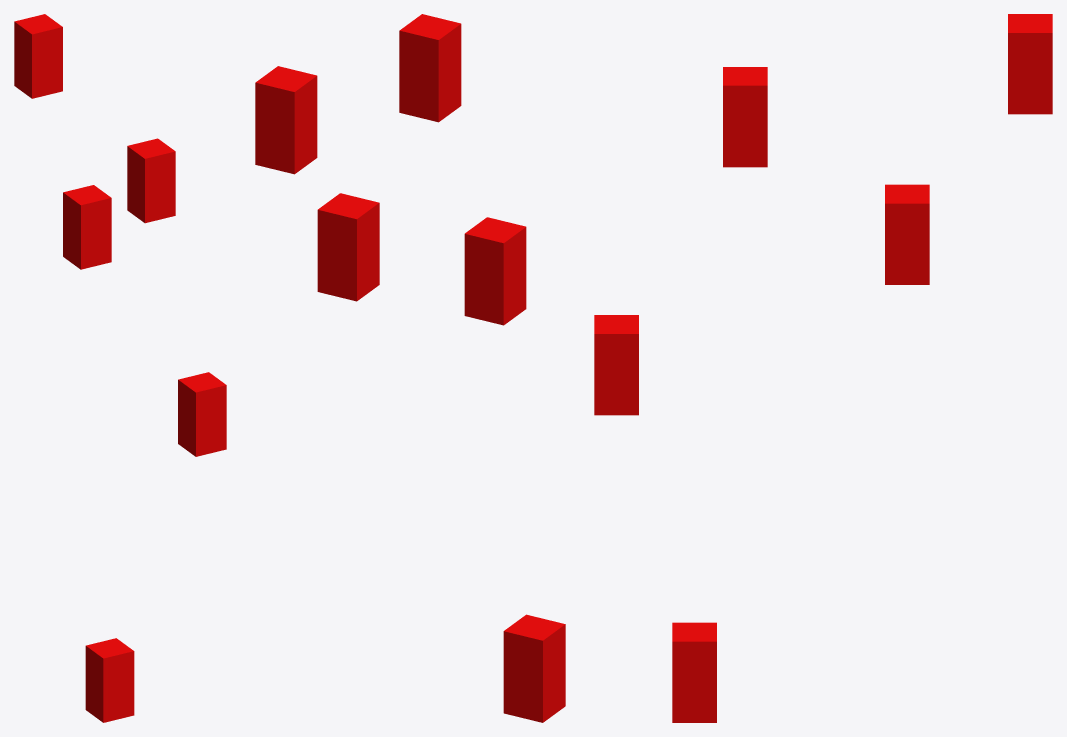
Rendered from M13_Enemies.fbx.
3 renders of one model, left to right at view 1: azimuth 30°, elevation 25°; view 2: azimuth 150°, elevation 25°; view 3: azimuth 270°, elevation 25°, orthographic. The views are drawn at different scales.
Visible parts, largest first — view 1: Enemy1, Enemy2, Enemy3, Enemy5, Enemy4; view 2: Enemy1, Enemy4, Enemy5, Enemy2, Enemy3; view 3: Enemy1, Enemy2, Enemy3, Enemy4, Enemy5.
Part boxes in pixels (x1,y1,x2,y2): Enemy1: [85, 638, 134, 722]; Enemy2: [178, 372, 226, 456]; Enemy3: [127, 138, 175, 223]; Enemy5: [63, 185, 111, 269]; Enemy4: [14, 14, 62, 98]; Enemy1: [503, 614, 565, 722]; Enemy4: [255, 66, 317, 174]; Enemy5: [317, 193, 379, 301]; Enemy2: [464, 217, 526, 325]; Enemy3: [399, 14, 461, 122]; Enemy1: [672, 622, 716, 722]; Enemy2: [594, 315, 638, 415]; Enemy3: [723, 67, 767, 167]; Enemy4: [1008, 14, 1052, 114]; Enemy5: [885, 184, 929, 284].
Size of what is drawn, in the model's own units: 6 by 35.8 by 20.44.
